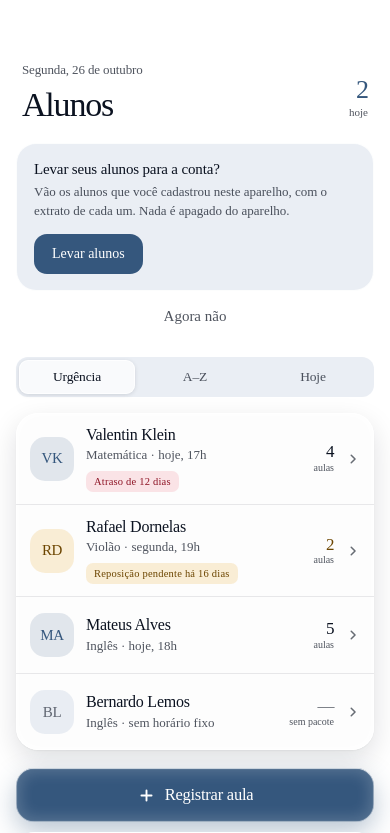
Scenario: "Agora não" esconde, e a pergunta não volta ao sair e voltar
expect the text "Levar seus alunos para a conta?" is shown: met, box [34,161,220,177]
Click the button "Agora não". click: (195, 316)
box: [16,293,374,339]
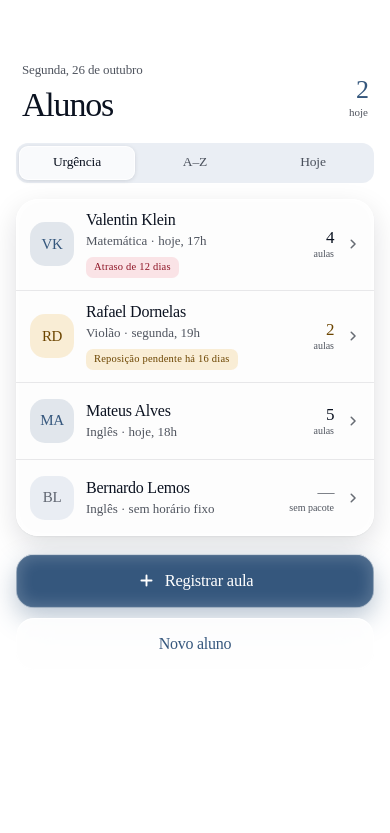
expect the text "Levar seus alunos para a conta?" is gone: met
